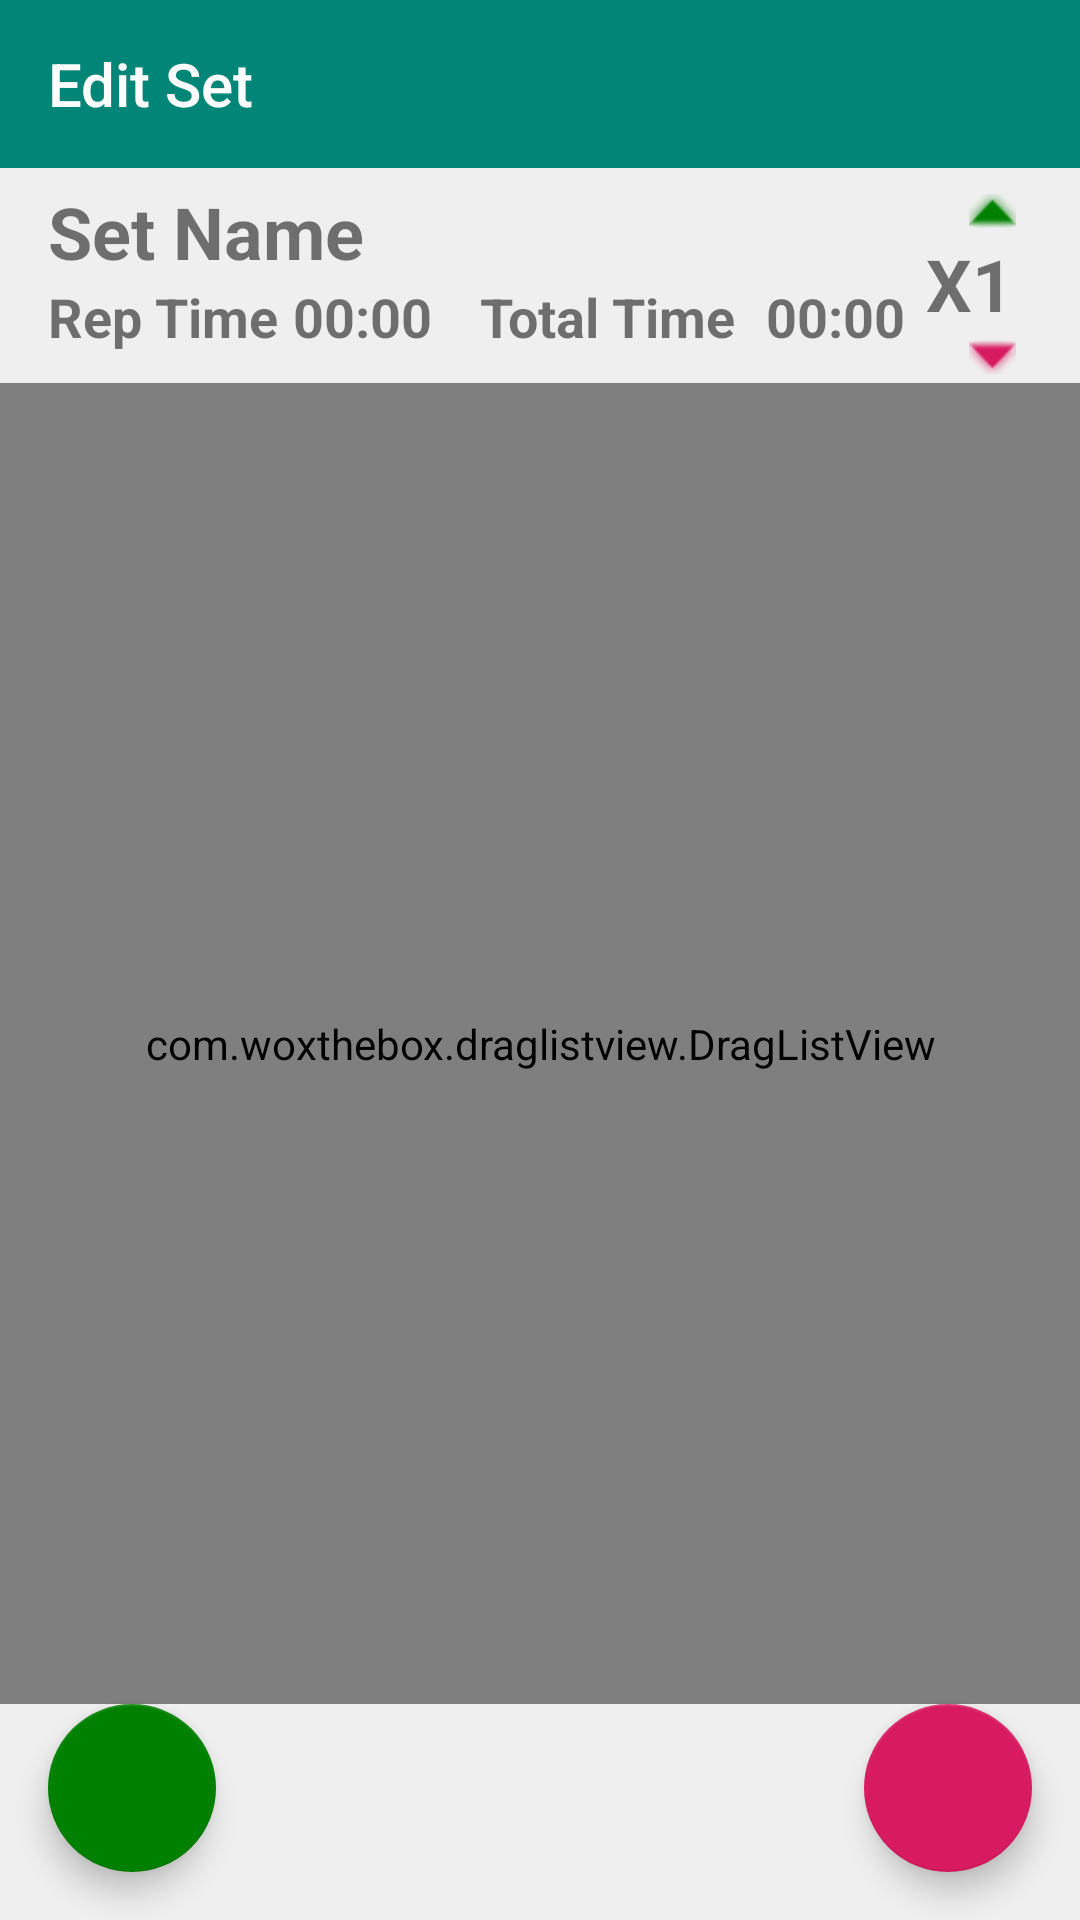

Icons on this 1080*1920 Android screen, each with the point to tap as (x,y):
arrow down float: (992,356)
arrow up float: (992,211)
